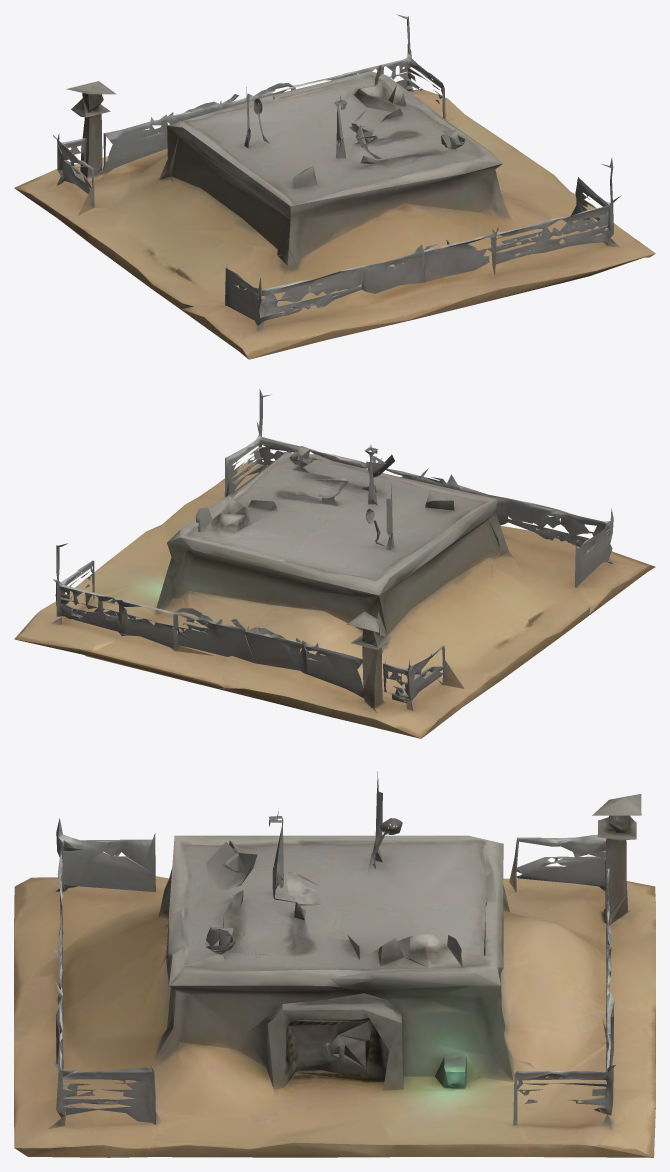
The model's file is predio_area51.glb.
3 renders of one model, top to bottom at view 1: azimuth 30°, elevation 25°; view 2: azimuth 150°, elevation 25°; view 3: azimuth 270°, elevation 25°, orthographic. The views are drawn at different scales.
Parts seen in each view (by area): view 1: tripo_node_ca5ef19f-42ed-48e8-a6cd-42e66226c58f; view 2: tripo_node_ca5ef19f-42ed-48e8-a6cd-42e66226c58f; view 3: tripo_node_ca5ef19f-42ed-48e8-a6cd-42e66226c58f.
Boxes of the visible parts, box(x1,y1,x2,y2) form: tripo_node_ca5ef19f-42ed-48e8-a6cd-42e66226c58f: box(14, 14, 655, 359); tripo_node_ca5ef19f-42ed-48e8-a6cd-42e66226c58f: box(14, 389, 655, 738); tripo_node_ca5ef19f-42ed-48e8-a6cd-42e66226c58f: box(14, 771, 655, 1157).
Size of the model in its own units: 1 by 0.356 by 1.
Materials: 1 (1 with a texture image).
